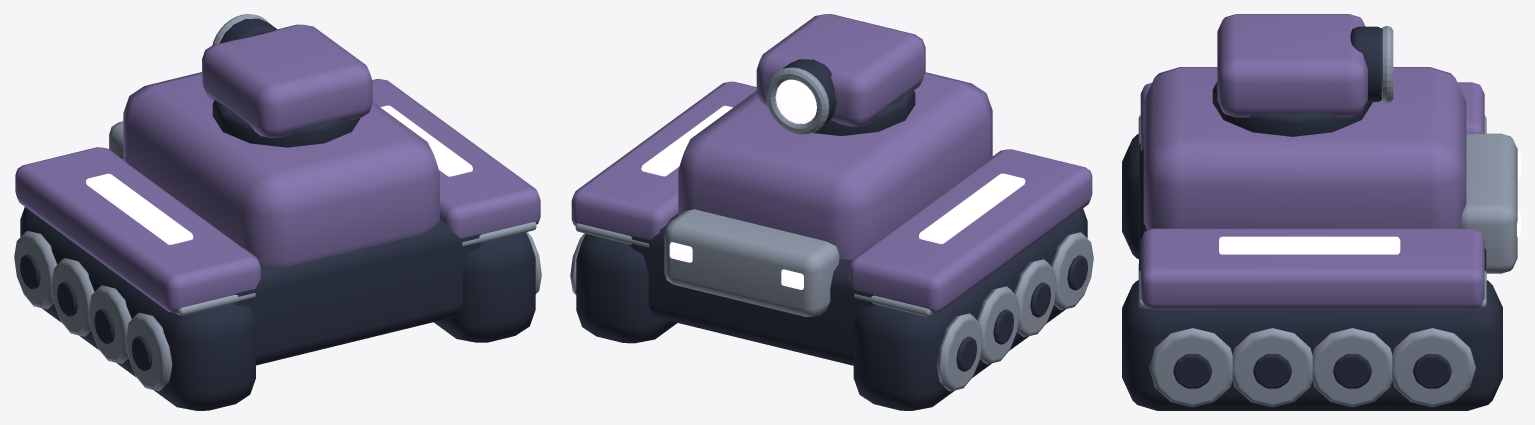
File: tank.glb
3 renders of one model, left to right at view 1: azimuth 30°, elevation 25°; view 2: azimuth 150°, elevation 25°; view 3: azimuth 270°, elevation 25°, orthographic. The views are drawn at different scales.
Parts seen in each view (by area): view 1: Layered hull, Heavy undercarriage, Fender panel, Turret cap, Track belt, Fender panel.001, Track belt.001, Fender stripe, Sensor turret bearing, Track wheel, Track wheel.001, Track wheel.002 (+9 smaller); view 2: Layered hull, Fender panel, Armored prow, Track belt, Turret cap, Heavy undercarriage, Fender panel.001, Track belt.001, Fender stripe, Track wheel.003, Optic bezel, Track wheel (+12 smaller); view 3: Layered hull, Fender panel.001, Track belt.001, Turret cap, Armored prow, Track wheel.007, Track wheel.004, Track wheel.005, Track wheel.006, Fender stripe.001, Sensor turret bearing, Track belt (+8 smaller).
Boxes of the visible parts, left/top/right/bottom form: Layered hull: left=123, top=72, right=439, bottom=266; Heavy undercarriage: left=120, top=156, right=482, bottom=365; Fender panel: left=15, top=147, right=260, bottom=313; Turret cap: left=202, top=24, right=372, bottom=137; Track belt: left=20, top=207, right=255, bottom=410; Fender panel.001: left=372, top=79, right=540, bottom=238; Track belt.001: left=433, top=232, right=535, bottom=342; Fender stripe: left=86, top=173, right=193, bottom=244; Sensor turret bearing: left=212, top=100, right=360, bottom=147; Track wheel: left=126, top=312, right=172, bottom=391; Track wheel.001: left=89, top=285, right=131, bottom=363; Track wheel.002: left=51, top=258, right=94, bottom=336; Layered hull: left=678, top=72, right=992, bottom=259; Fender panel: left=849, top=149, right=1092, bottom=313; Armored prow: left=664, top=209, right=839, bottom=316; Track belt: left=853, top=208, right=1087, bottom=410; Turret cap: left=756, top=14, right=925, bottom=126; Heavy undercarriage: left=629, top=213, right=875, bottom=365; Fender panel.001: left=571, top=81, right=756, bottom=239; Track belt.001: left=576, top=234, right=676, bottom=343; Fender stripe: left=919, top=173, right=1025, bottom=243; Track wheel.003: left=936, top=313, right=982, bottom=391; Optic bezel: left=765, top=67, right=829, bottom=134; Track wheel: left=1051, top=232, right=1093, bottom=310; Layered hull: left=1143, top=67, right=1466, bottom=229; Fender panel.001: left=1140, top=228, right=1484, bottom=309; Track belt.001: left=1122, top=280, right=1502, bottom=410; Turret cap: left=1217, top=14, right=1367, bottom=117; Armored prow: left=1461, top=133, right=1517, bottom=273; Track wheel.007: left=1392, top=328, right=1475, bottom=407; Track wheel.004: left=1149, top=328, right=1232, bottom=407; Track wheel.005: left=1232, top=328, right=1312, bottom=407; Track wheel.006: left=1312, top=328, right=1392, bottom=407; Fender stripe.001: left=1219, top=236, right=1400, bottom=254; Sensor turret bearing: left=1212, top=82, right=1372, bottom=136; Track belt: left=1122, top=134, right=1138, bottom=258.
Bounding box in the file's own units: 1.57 × 1.08 × 1.3.
